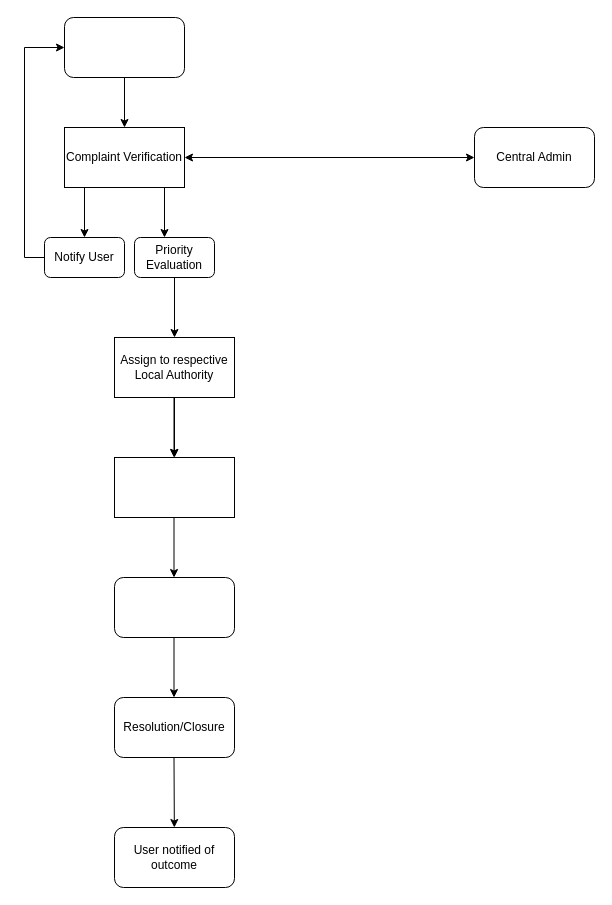
This 612x905 diagram has some shape labels left out. Here are the shapes that lost their labels. From the top down, the box of each, then its label:
(64, 16, 184, 78): User Registers Complaint
(114, 456, 234, 518): Review and Action takes place
(114, 576, 234, 638): Central Admin initiates chat if high priority
